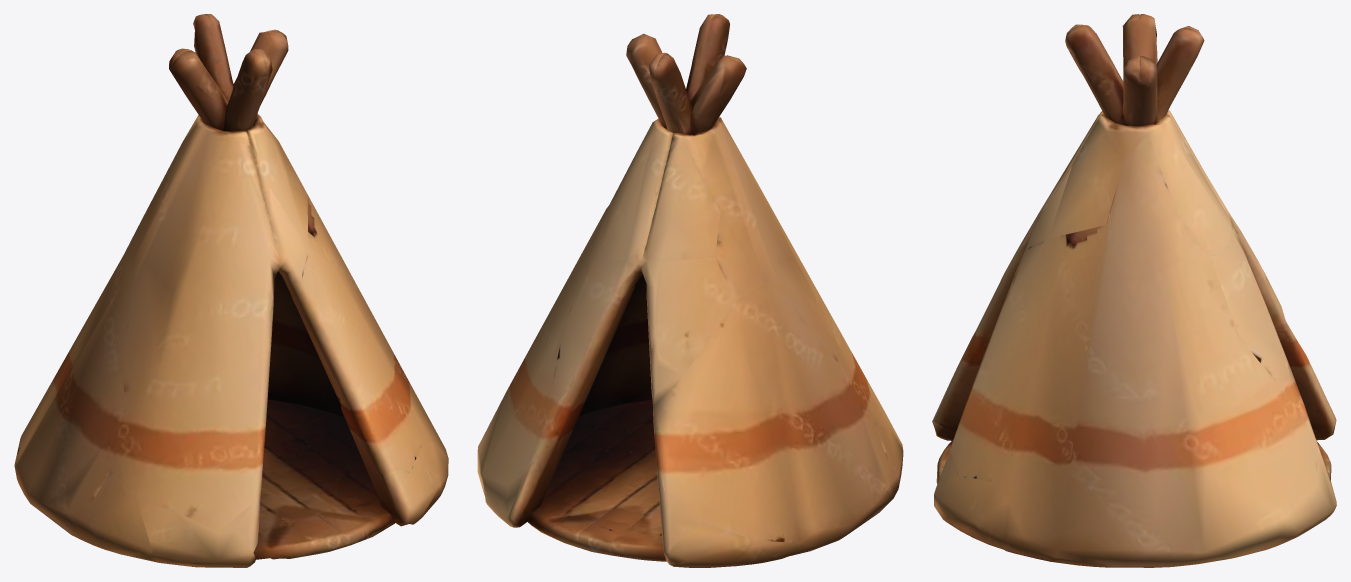
File: teepee_pbr.glb
The picture shows the model from 3 angles, left to right: view 1: azimuth 30°, elevation 25°; view 2: azimuth 150°, elevation 25°; view 3: azimuth 270°, elevation 25°; orthographic projection.
Visible parts, largest first — view 1: model; view 2: model; view 3: model.
Part boxes in pixels (left/top/right/bottom): model: left=14, top=14, right=448, bottom=567; model: left=477, top=14, right=903, bottom=567; model: left=932, top=14, right=1336, bottom=567.
Size of the model in its own units: 1.47 by 1.71 by 1.37.
Materials: 1 (1 with a texture image).
